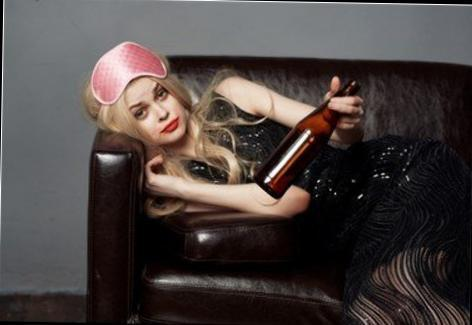Drunk: (127, 77, 187, 140)
